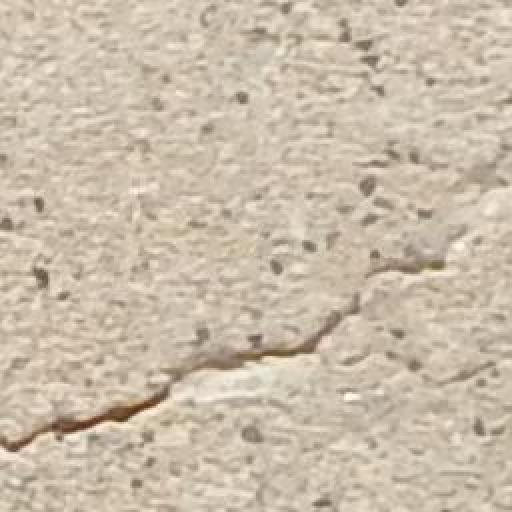spalling: (6, 227, 447, 471)
